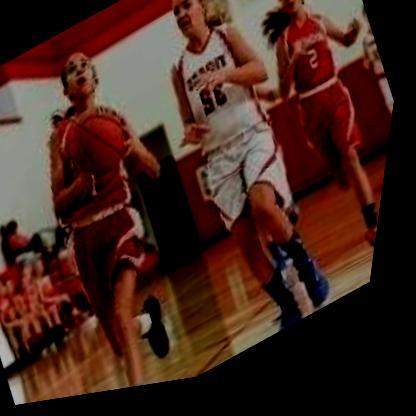basketball: (50, 90, 151, 200)
